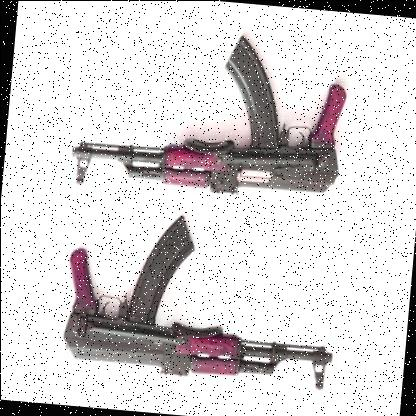rifle: (47, 199, 344, 405), (67, 18, 361, 216)
